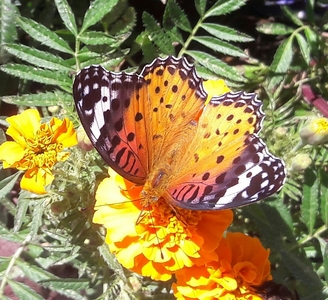Argyreus hyperbius: (68, 47, 284, 260)
butterfly: (70, 49, 286, 262)
